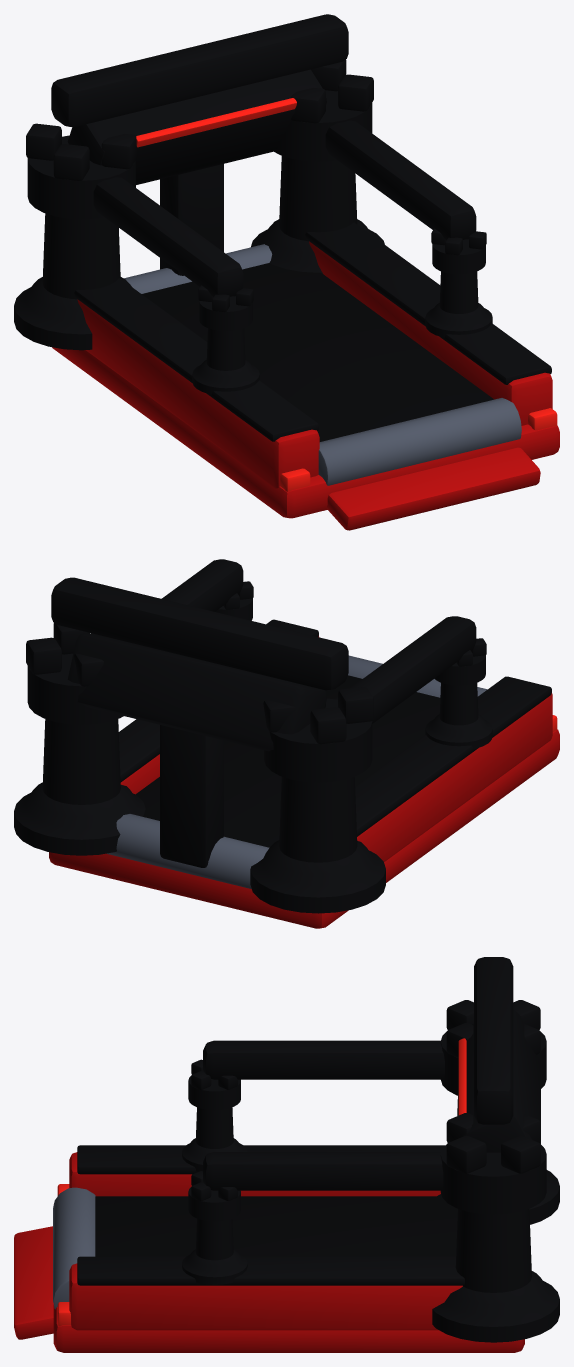
Rendered from RookRig.obj.
3 renders of one model, top to bottom at view 1: azimuth 30°, elevation 25°; view 2: azimuth 150°, elevation 25°; view 3: azimuth 270°, elevation 25°, orthographic. The views are drawn at different scales.
Parts seen in each view (by area): view 1: RookRig_Trim, RookRig_Chassis, RookRig_Rail, RookRig_Belt, RookRig_Console, RookRig_Steel, RookRig_Screen; view 2: RookRig_Trim, RookRig_Console, RookRig_Rail, RookRig_Chassis, RookRig_Belt, RookRig_Steel; view 3: RookRig_Trim, RookRig_Chassis, RookRig_Rail, RookRig_Belt, RookRig_Console, RookRig_Steel, RookRig_Screen.
Boxes of the visible parts, <box> form: RookRig_Trim: <box>14,59,551,441</box>; RookRig_Chassis: <box>52,241,559,530</box>; RookRig_Rail: <box>51,14,476,296</box>; RookRig_Belt: <box>142,263,493,441</box>; RookRig_Console: <box>67,69,326,275</box>; RookRig_Steel: <box>124,244,521,485</box>; RookRig_Screen: <box>136,98,557,491</box>; RookRig_Trim: <box>14,581,551,913</box>; RookRig_Console: <box>67,633,326,867</box>; RookRig_Rail: <box>51,559,476,723</box>; RookRig_Chassis: <box>49,636,559,928</box>; RookRig_Belt: <box>136,675,440,847</box>; RookRig_Steel: <box>107,655,487,888</box>; RookRig_Trim: <box>77,1000,559,1342</box>; RookRig_Chassis: <box>14,1152,524,1352</box>; RookRig_Rail: <box>203,957,513,1190</box>; RookRig_Belt: <box>95,1196,457,1256</box>; RookRig_Console: <box>463,1009,540,1152</box>; RookRig_Steel: <box>53,1187,95,1309</box>; RookRig_Screen: <box>57,1038,466,1325</box>.
Bounding box in the file's own units: 10.18 × 7.69 × 13.9.
